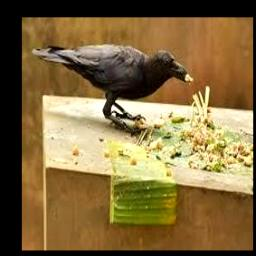Crow: (31, 44, 190, 126)
